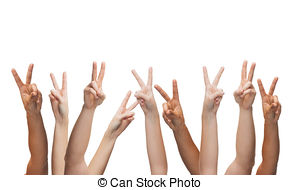v_s: (9, 61, 45, 115), (103, 90, 145, 134), (154, 79, 187, 130), (256, 72, 289, 121), (229, 55, 258, 109), (129, 65, 160, 109), (81, 58, 108, 108), (199, 64, 226, 110), (48, 70, 72, 119)
